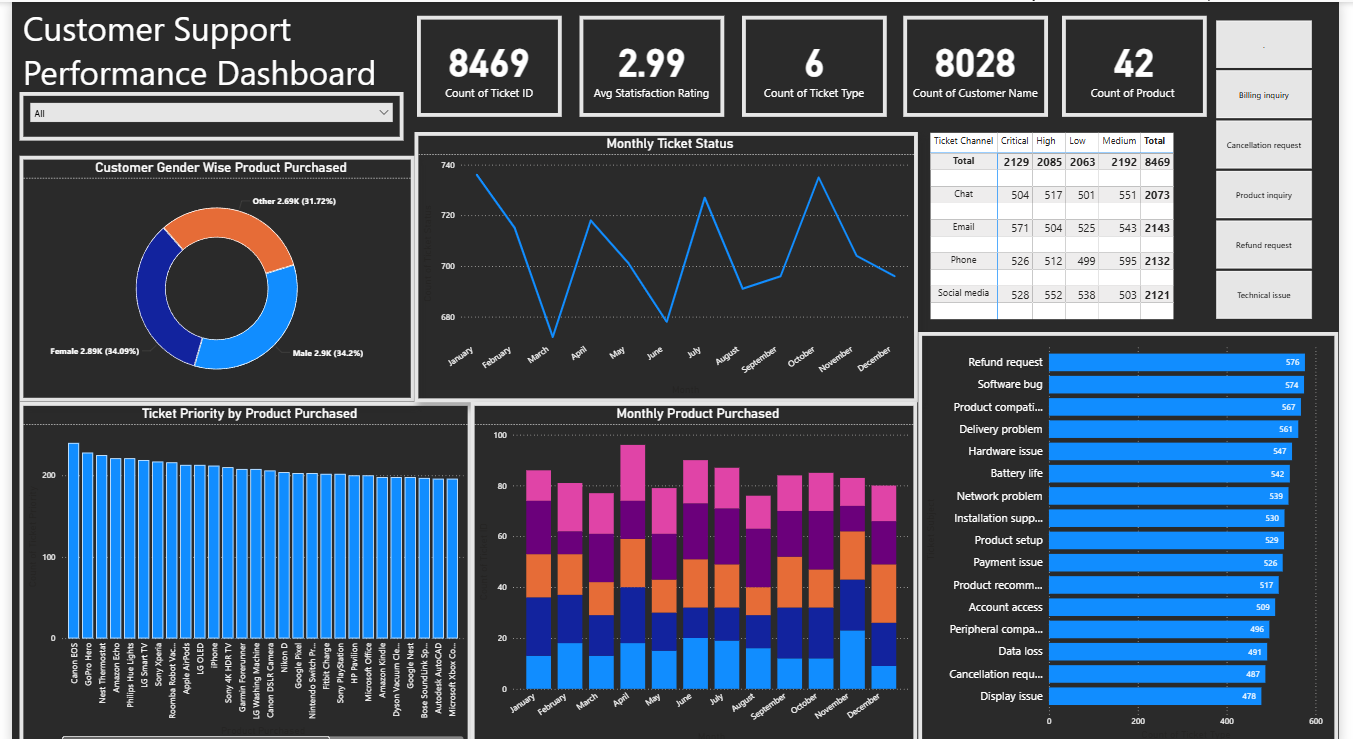

The dashboard page shown, as its layout file describes it:
{"tool":"powerbi","page":{"name":"Page 1","canvas":[1920,1080],"ordinal":0},"visuals":[{"type":"textbox","box":[10.3,0,617.5,142],"z":0},{"type":"card","fields":{"Values":["Customer_support.Ticket ID"]},"box":[586.3,19.9,209.9,146.6],"z":1000},{"type":"card","fields":{"Values":["Customer_support.Avg Statisfaction Rating"]},"box":[821.6,19.9,209.9,146.6],"z":2000},{"type":"card","fields":{"Values":["Customer_support.Ticket Type"]},"box":[1056.8,19.9,209.9,146.6],"z":3000},{"type":"card","fields":{"Values":["Customer_support.Customer Name"]},"box":[1290.3,19.9,209.9,146.6],"z":4000},{"type":"slicer","fields":{"Values":["Customer_support.Date of Purchase.Variation.Date Hierarchy.Month","Customer_support.Ticket Channel"]},"box":[10.7,130.4,555.9,70.6],"z":5000},{"type":"card","fields":{"Values":["Customer_support.Product Purchased"]},"box":[1520.1,19.9,209.9,146.6],"z":6000},{"type":"donutChart","title":"Customer Gender Wise Product Purchased ","fields":{"Category":["Customer_support.Customer Gender"],"Y":["Customer_support.Product Purchased"]},"box":[10.3,222.3,572.2,356.1],"z":7000},{"type":"columnChart","title":"Ticket Priority by Product Purchased","fields":{"Category":["Customer_support.Product Purchased"],"Y":["Customer_support.Ticket Priority"]},"box":[10.3,578.4,654.5,502.2],"z":8000},{"type":"lineChart","title":"Monthly Ticket Trend","fields":{"Y":["Customer_support.Ticket Status","select"],"Category":["Customer_support.Date of Purchase.Variation.Date Hierarchy.Month"]},"box":[582.5,187.3,728.6,391.1],"z":9000},{"type":"lineStackedColumnComboChart","title":"Monthly Product Breakdown","fields":{"Category":["Customer_support.Date of Purchase.Variation.Date Hierarchy.Month"],"Series":["Customer_support.Product Purchased"],"Y":["Customer_support.Ticket ID"]},"box":[664.8,578.4,646.3,502.2],"z":10000},{"type":"barChart","fields":{"Category":["Customer_support.Ticket Subject"],"Y":["Customer_support.Ticket Type"]},"box":[1312,477.8,608,602.6],"z":11000},{"type":"pivotTable","fields":{"Values":["Customer_support.Ticket ID"],"Columns":["Customer_support.Ticket Priority"],"Rows":["Customer_support.Ticket Channel"]},"box":[1324.7,184.6,441.6,309.5],"z":12000},{"type":"slicer","fields":{"Values":["Customer_support.Ticket Type"]},"box":[1717.4,19.9,188.2,445.2],"z":13000}]}

Visuals, with their boxes in screenshot pixels (x1, y1, x2, y2), scaled from the page's 1920x1080 canvas onto the 1353x739 screenshot:
textbox: x1=7, y1=0, x2=442, y2=97
card - Customer_support.Ticket ID: x1=413, y1=14, x2=561, y2=114
card - Customer_support.Avg Statisfaction Rating: x1=579, y1=14, x2=727, y2=114
card - Customer_support.Ticket Type: x1=745, y1=14, x2=893, y2=114
card - Customer_support.Customer Name: x1=909, y1=14, x2=1057, y2=114
slicer - Customer_support.Date of Purchase.Variation.Date Hierarchy.Month x Customer_support.Ticket Channel: x1=8, y1=89, x2=399, y2=138
card - Customer_support.Product Purchased: x1=1071, y1=14, x2=1219, y2=114
"Customer Gender Wise Product Purchased " donutChart: x1=7, y1=152, x2=410, y2=396
"Ticket Priority by Product Purchased" columnChart: x1=7, y1=396, x2=468, y2=738
"Monthly Ticket Trend" lineChart: x1=410, y1=128, x2=924, y2=396
"Monthly Product Breakdown" lineStackedColumnComboChart: x1=468, y1=396, x2=924, y2=738
barChart - Customer_support.Ticket Subject x Customer_support.Ticket Type: x1=925, y1=327, x2=1352, y2=738
pivotTable - Customer_support.Ticket ID x Customer_support.Ticket Priority: x1=933, y1=126, x2=1245, y2=338
slicer - Customer_support.Ticket Type: x1=1210, y1=14, x2=1343, y2=318
